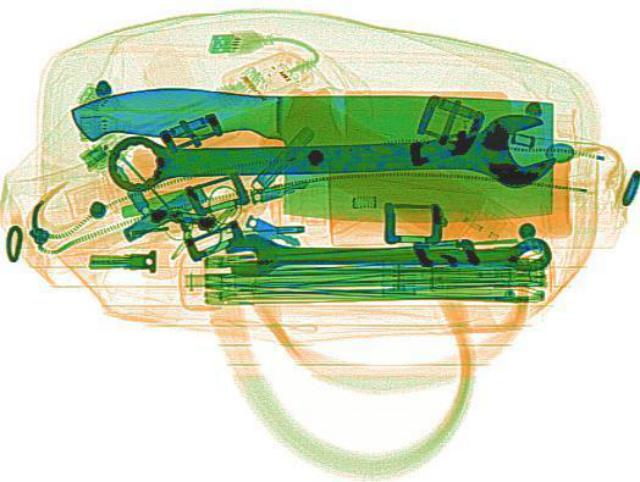Knife: (64, 83, 558, 226)
Wrench: (101, 112, 553, 195), (222, 230, 550, 274)
